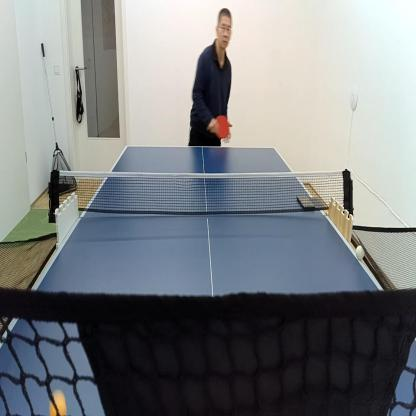Ball: (48, 386, 68, 416), (354, 244, 366, 262)
